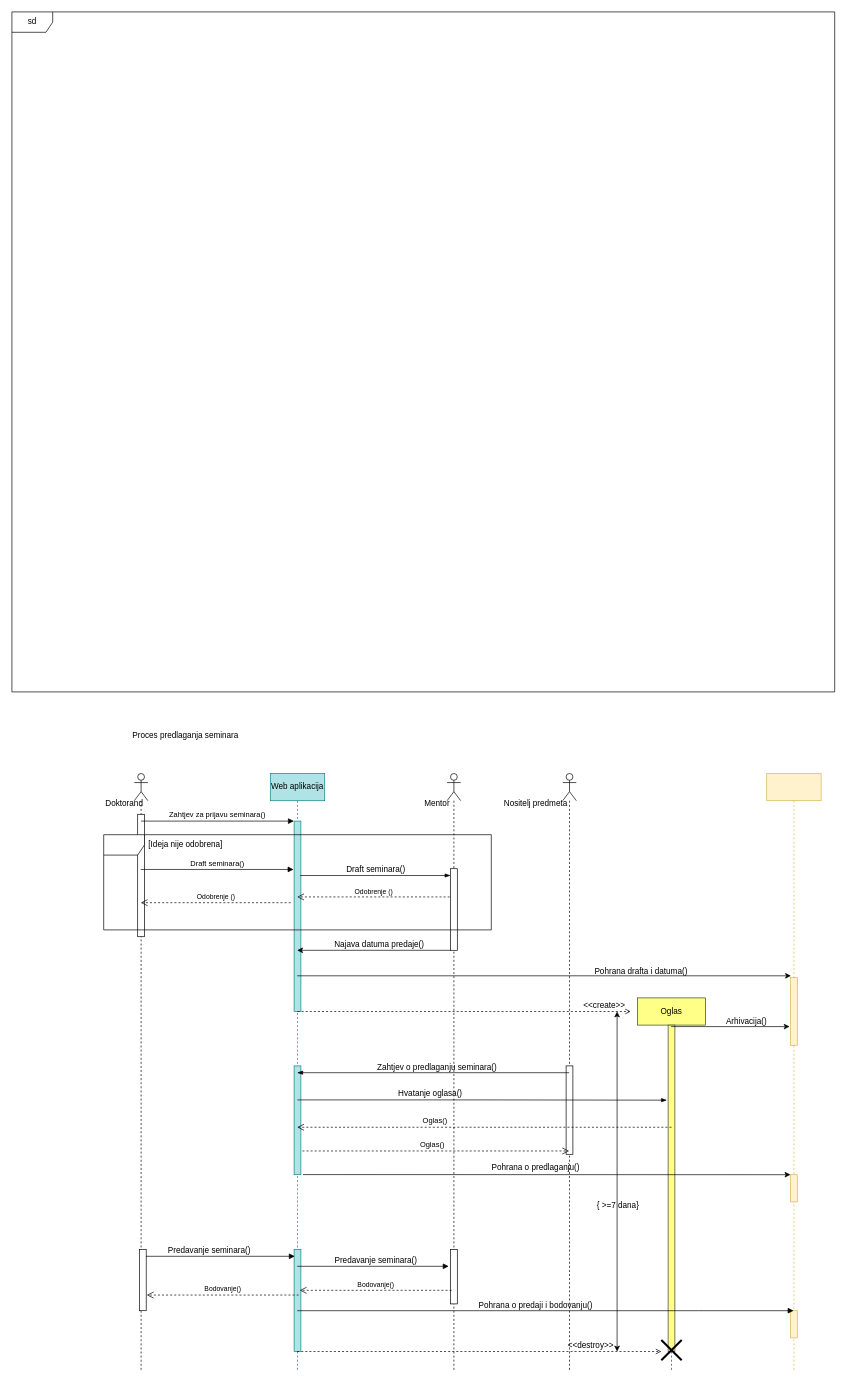
Image size: 847x1384. Some labels were removed from this diagram. The shapes that lost their labels are listed below. From the top down, each one's box as (x1, y1, x2, y2) in pixels, then its label:
(103, 834, 491, 930): loop
(766, 773, 821, 1372): Baza podataka
